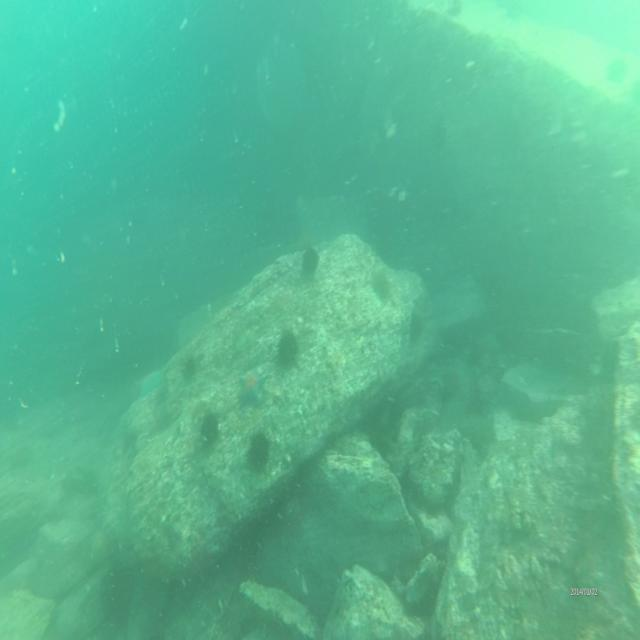echinus: (277, 324, 298, 368), (196, 408, 220, 444), (245, 432, 270, 465), (371, 266, 392, 300), (179, 352, 199, 380), (301, 248, 317, 272)
starfish: (236, 364, 266, 407)
